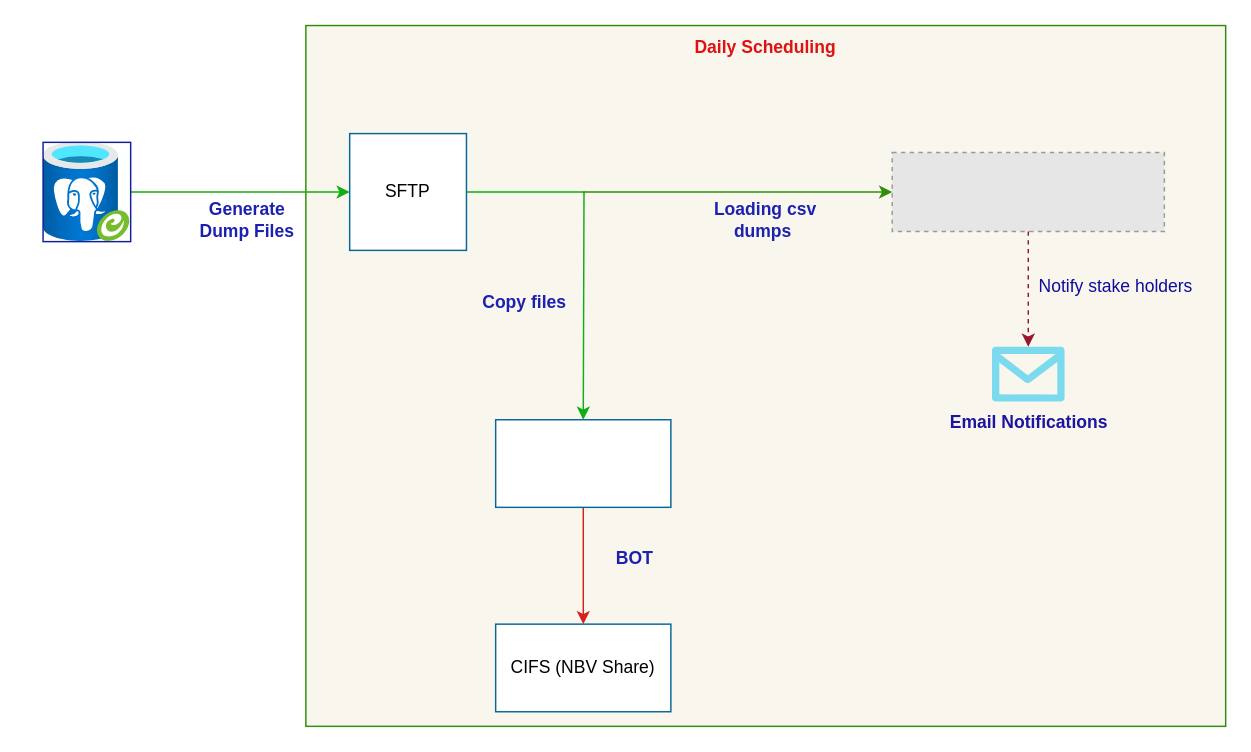
The diagram is 1251 pixels wide and 752 high, and some of its shapes have lost their labels. Grey dashed boxes stand in for pictures. The box of each missing label's shape, as (x1, y1, x2, y2) in pixels:
CIFS Share (/sqreamshare): (494, 418, 671, 507)
Short Term DB: (42, 142, 130, 241)
